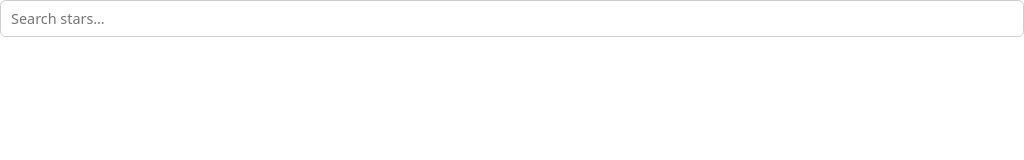
Test: ValuePicker keyboard navigation › typing highlights the best match so Enter adds it
Later steps or results of the test are not shown.
Type "b" into the dropdown with placeholder "Search stars…" at (512, 18), box [7, 5, 1017, 32]
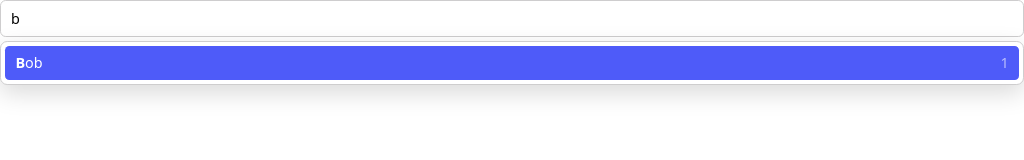
Expected: the element showing "Bob" is shown, [15, 53, 43, 72]
